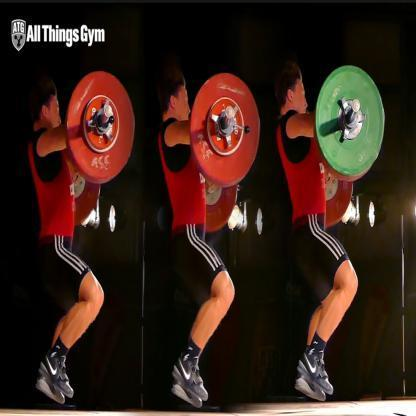barbell: (58, 69, 135, 226), (315, 63, 385, 227), (190, 71, 261, 230)
